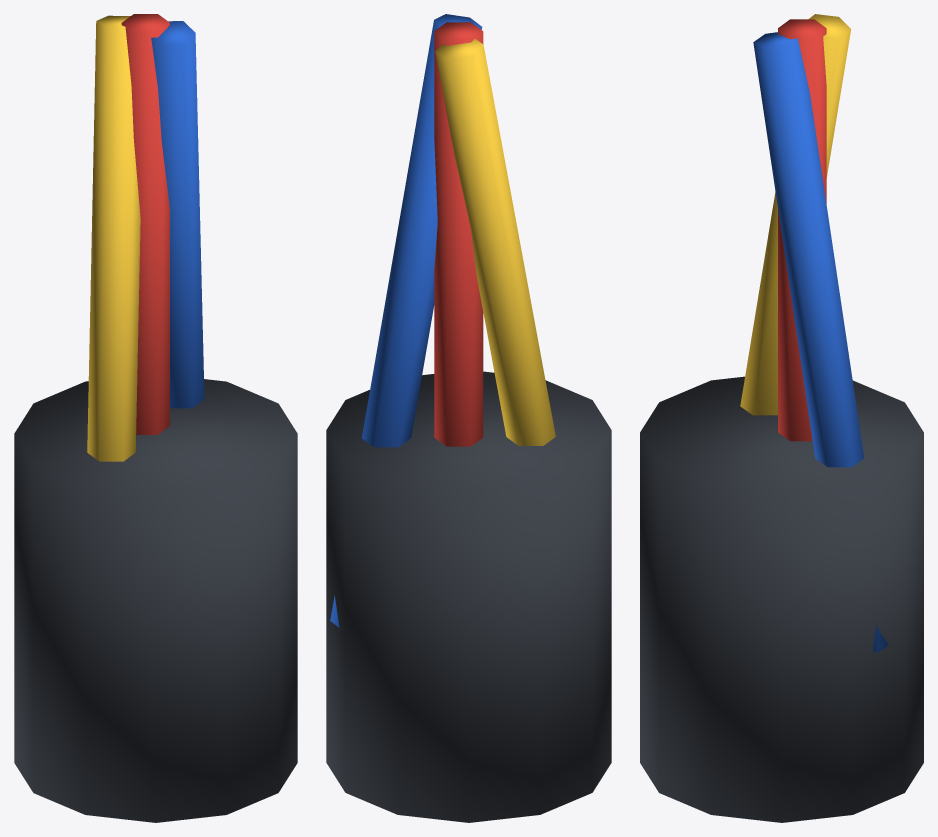
The model's file is PencilCup.fbx.
The picture shows the model from 3 angles, left to right: view 1: azimuth 30°, elevation 25°; view 2: azimuth 150°, elevation 25°; view 3: azimuth 270°, elevation 25°; orthographic projection.
Visible parts, largest first — view 1: Cup, Pencil, Pencil.002, Pencil.001; view 2: Cup, Pencil, Pencil.002, Pencil.001; view 3: Cup, Pencil.002, Pencil, Pencil.001.
Boxes of the visible parts, left/top/right/bottom form: Cup: left=14, top=379, right=297, bottom=822; Pencil: left=87, top=15, right=140, bottom=461; Pencil.002: left=151, top=21, right=204, bottom=408; Pencil.001: left=121, top=14, right=169, bottom=434; Cup: left=326, top=371, right=611, bottom=822; Pencil: left=435, top=39, right=555, bottom=445; Pencil.002: left=330, top=14, right=482, bottom=627; Pencil.001: left=434, top=22, right=483, bottom=446; Cup: left=640, top=376, right=923, bottom=822; Pencil.002: left=753, top=32, right=888, bottom=652; Pencil: left=740, top=14, right=851, bottom=415; Pencil.001: left=778, top=19, right=826, bottom=441.
Size of the model in its own units: 0.07 by 0.2 by 0.07.
